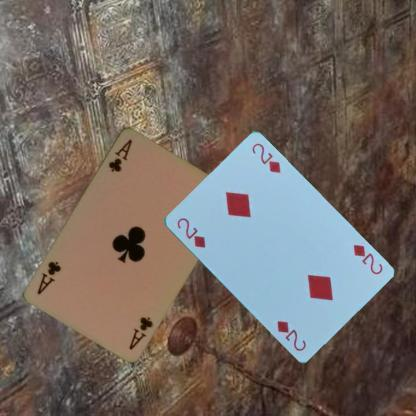2d: (350, 242, 384, 276), (174, 215, 206, 250)
Ac: (106, 136, 134, 174), (126, 313, 154, 351)
